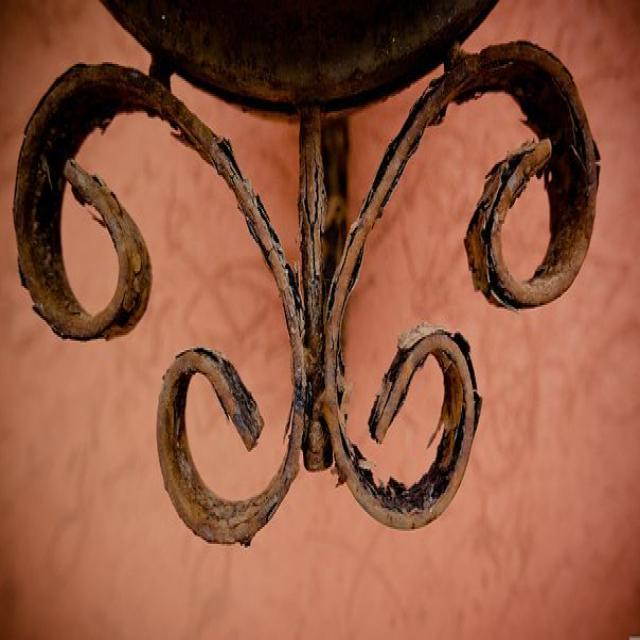corrosion: (10, 0, 606, 546)
